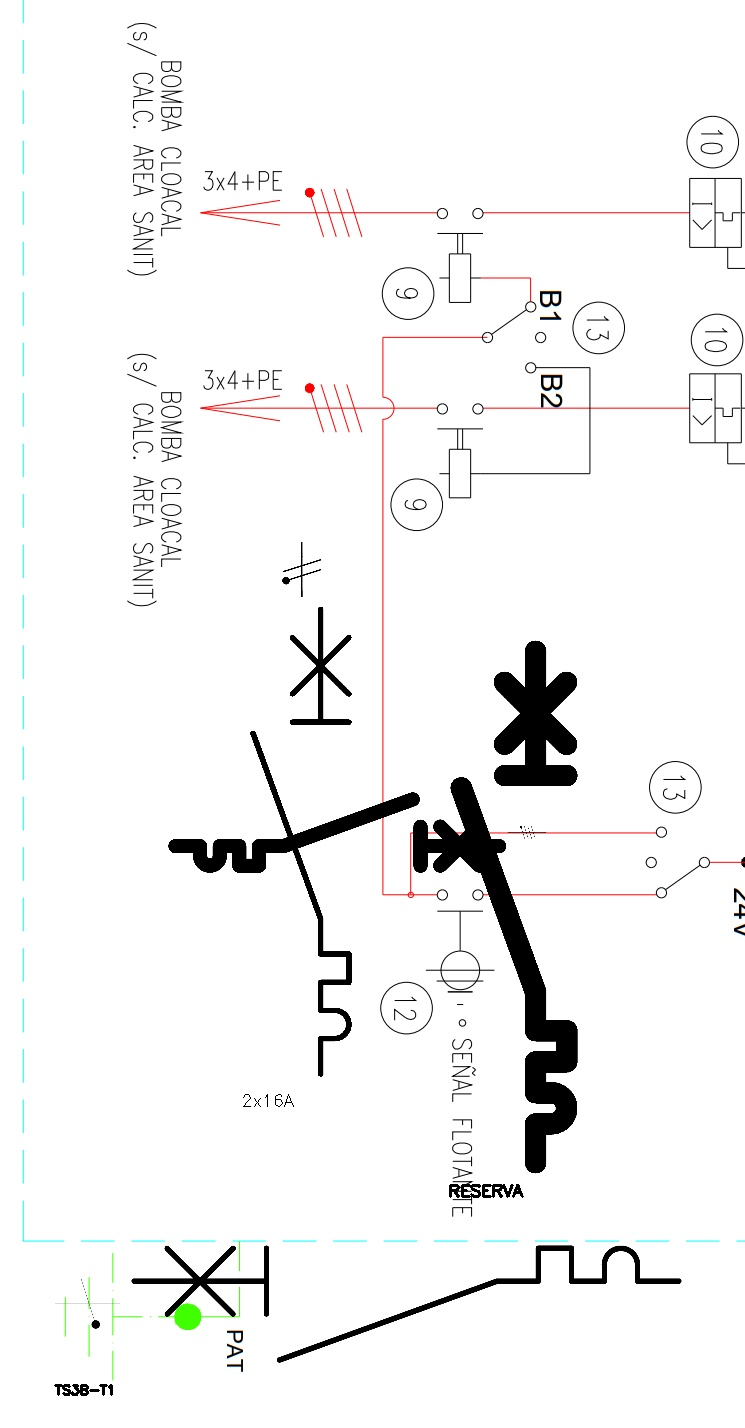interruptor_termomagnetico: (119, 1234, 692, 1374), (448, 638, 580, 1176), (241, 597, 361, 1086), (167, 791, 508, 874)
